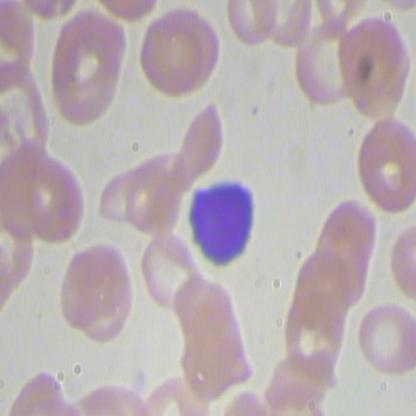RBC: (335, 14, 413, 121), (351, 119, 415, 220), (351, 292, 415, 392), (294, 16, 358, 115), (279, 288, 347, 378), (28, 156, 94, 244), (56, 245, 121, 334), (55, 36, 120, 125), (139, 14, 204, 102), (137, 230, 200, 313), (120, 152, 183, 234), (172, 99, 224, 193)
WBC: (181, 175, 262, 267)
